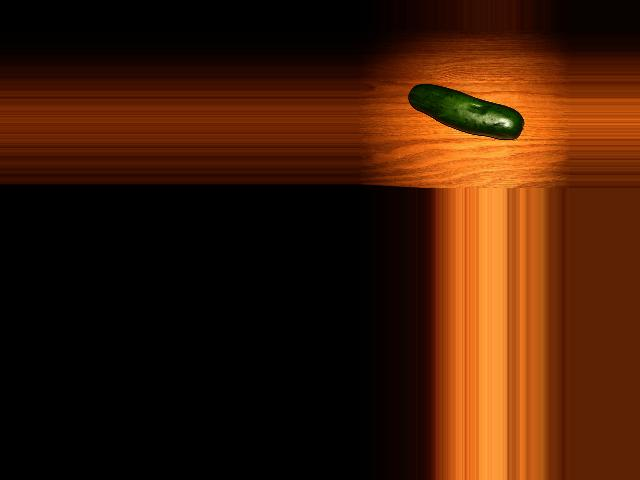cucumber: (407, 84, 522, 140)
